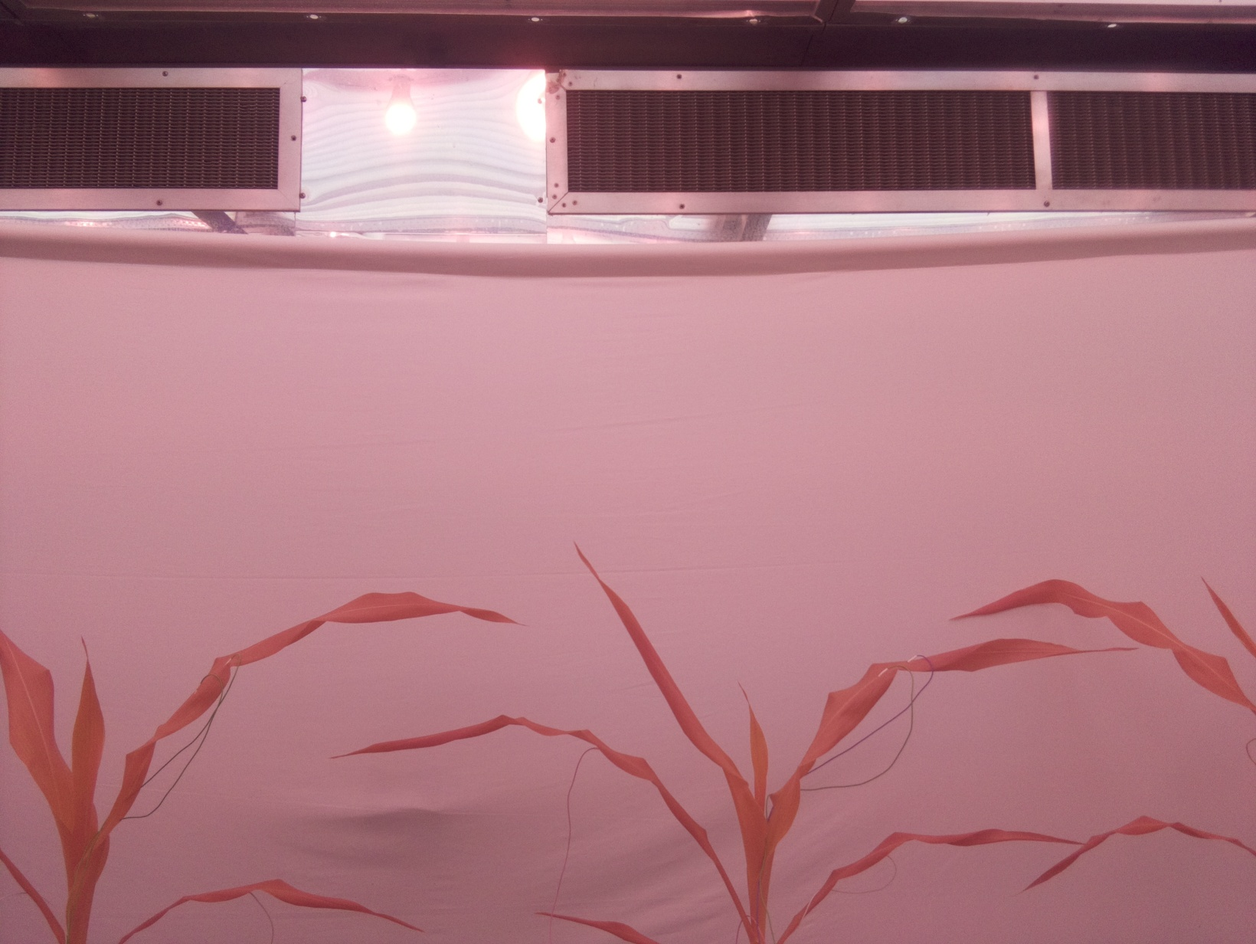maize: (327, 541, 1141, 944), (0, 591, 527, 944), (947, 575, 1256, 897)
